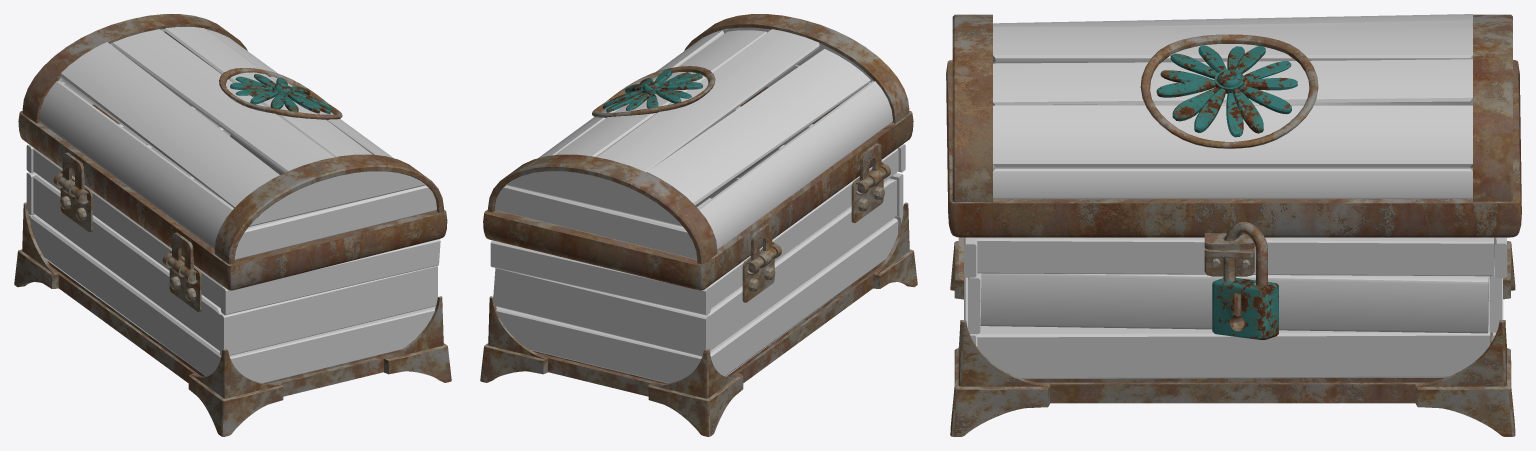
The model's file is SM_GirlsChest_01.fbx.
The picture shows the model from 3 angles, left to right: view 1: azimuth 30°, elevation 25°; view 2: azimuth 150°, elevation 25°; view 3: azimuth 270°, elevation 25°; orthographic projection. The views are drawn at different scales.
Parts seen in each view (by area): view 1: Chest_Top_01, Chest_bottom_01; view 2: Chest_Top_01, Chest_bottom_01; view 3: Chest_Top_01, Chest_bottom_01, lock_01, lock_02.
Boxes of the visible parts, x1,y1,x2,y2 form: Chest_Top_01: [18, 14, 447, 290]; Chest_bottom_01: [14, 106, 451, 436]; Chest_Top_01: [483, 14, 913, 290]; Chest_bottom_01: [480, 106, 917, 436]; Chest_Top_01: [946, 14, 1521, 249]; Chest_bottom_01: [950, 167, 1515, 436]; lock_01: [1212, 278, 1278, 339]; lock_02: [1223, 222, 1267, 285].
Bounding box in the file's own units: 80.65 × 68.82 × 111.
